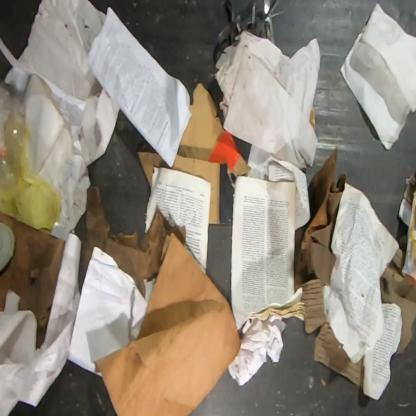cardboard: (138, 83, 252, 224), (0, 213, 65, 350), (296, 278, 364, 387)
metal: (212, 0, 284, 65), (0, 222, 15, 273)
soft_plastic: (0, 124, 62, 232), (379, 234, 416, 354), (0, 82, 27, 191), (309, 106, 317, 132)
